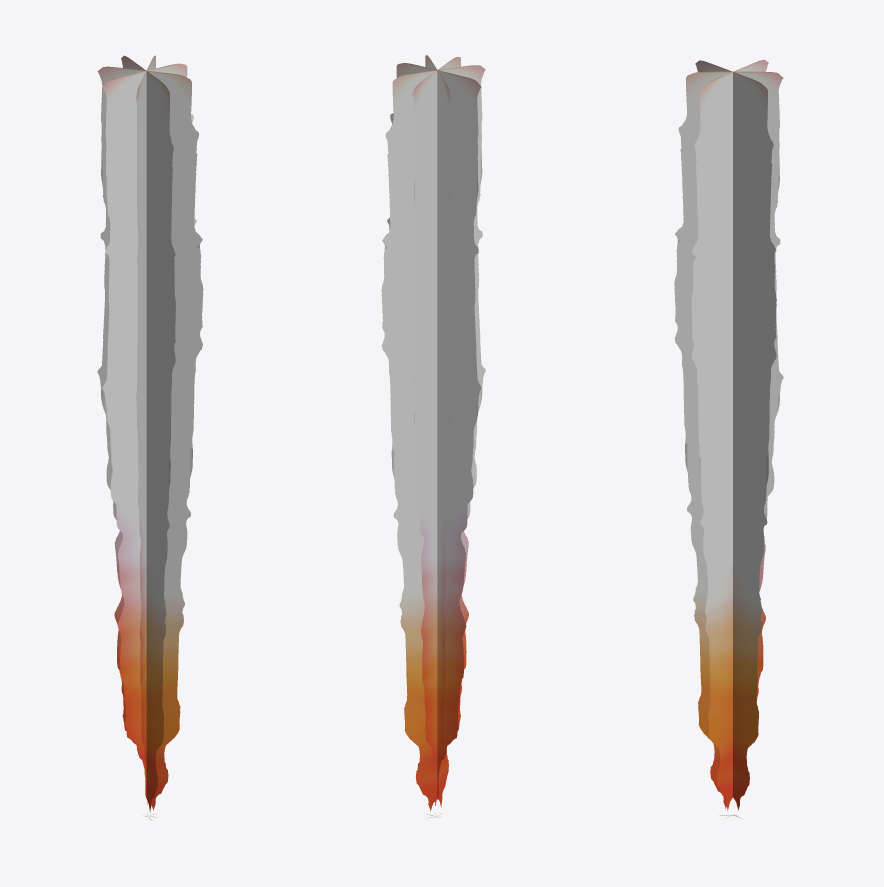
File: flamme image dupliqué a 45 250m.dae
3 renders of one model, left to right at view 1: azimuth 30°, elevation 25°; view 2: azimuth 150°, elevation 25°; view 3: azimuth 270°, elevation 25°, orthographic.
Parts seen in each view (by area): view 1: image_2, image_0, image_1, image_3; view 2: image_3, image_0, image_1, image_2; view 3: image_3, image_2, image_1.
Part boxes in pixels (box(x1,y1,x2,y2)): image_2: box(97, 66, 203, 817); image_0: box(102, 63, 196, 816); image_1: box(121, 55, 175, 819); image_3: box(136, 55, 155, 814); image_3: box(381, 65, 485, 818); image_0: box(387, 63, 481, 817); image_1: box(412, 57, 460, 815); image_2: box(425, 55, 450, 815); image_3: box(695, 60, 776, 818); image_2: box(691, 59, 768, 818); image_1: box(674, 71, 783, 815).
Bounding box in the file's own units: 3287 × 3287 × 9862.
Materials: 1 (1 with a texture image).
